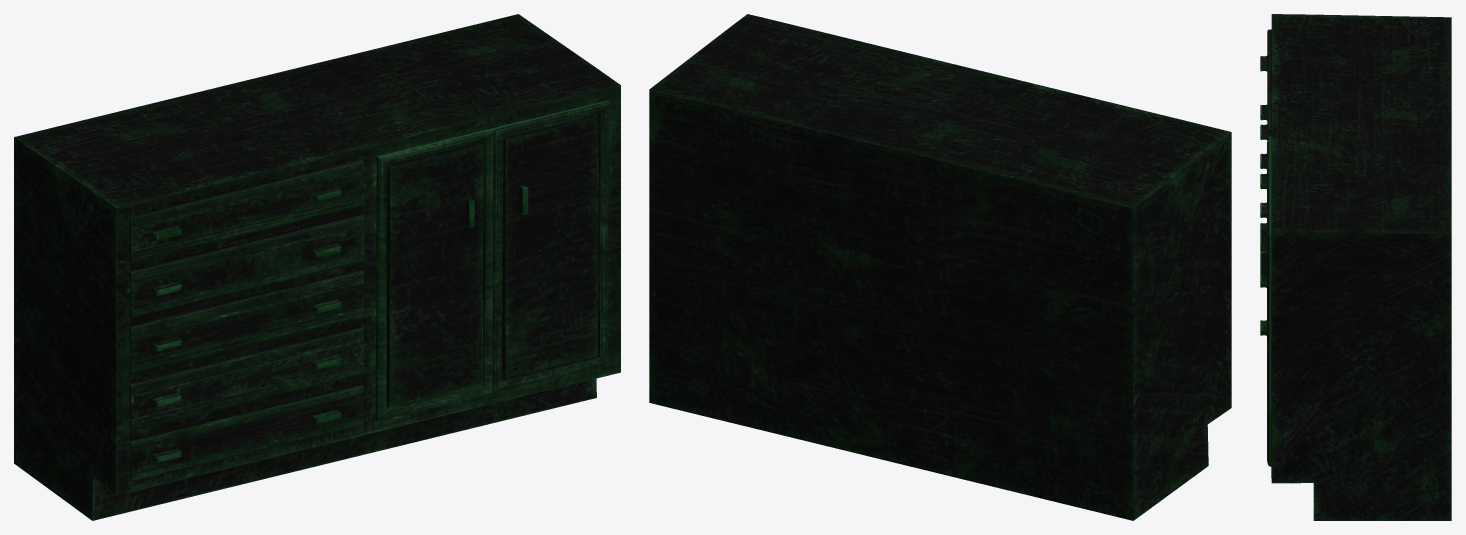
The model's file is chest.glb.
3 views of the same model, side by side, from view 1: azimuth 30°, elevation 25°; view 2: azimuth 150°, elevation 25°; view 3: azimuth 270°, elevation 25° (orthographic). The views are drawn at different scales.
Visible parts, largest first — view 1: defaultMaterial; view 2: defaultMaterial; view 3: defaultMaterial.
Part boxes in pixels (x1,y1,x2,y2): defaultMaterial: (14, 14, 620, 520); defaultMaterial: (649, 14, 1231, 520); defaultMaterial: (1260, 14, 1451, 520).
Size of the model in its own units: 0.9 by 0.5631 by 0.3361.
1 material, 1 textured.
